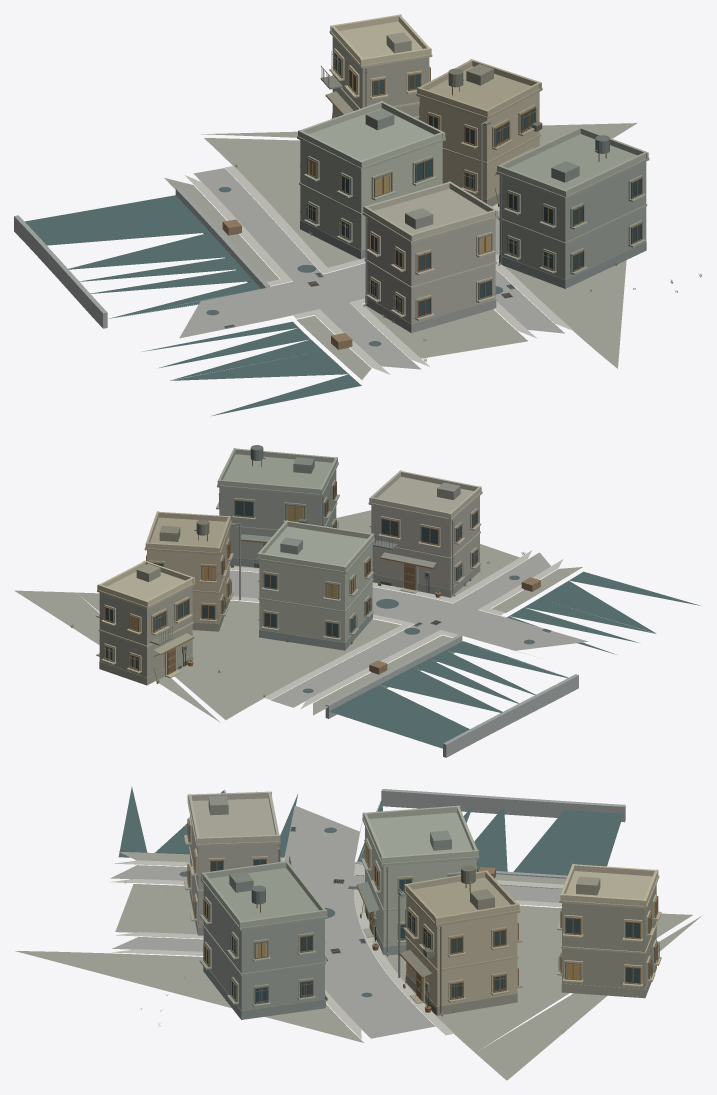
The model's file is street_8_4.glb.
3 views of the same model, one above another, from view 1: azimuth 30°, elevation 25°; view 2: azimuth 150°, elevation 25°; view 3: azimuth 270°, elevation 25° (orthographic). The views are drawn at different scales.
Parts seen in each view (by area): view 1: plaster.009, trim.009, ground.008, water.008, concrete.007, road.046, graybrick.009, paving.036, wood.009, glass.009, metal.009, roof_metal.009; view 2: ground.008, trim.009, plaster.009, water.008, graybrick.009, road.046, concrete.007, wood.009, paving.036, glass.009, roof_metal.009, metal.009 (+1 smaller); view 3: ground.008, trim.009, plaster.009, road.046, graybrick.009, concrete.007, water.008, paving.036, wood.009, glass.009, roof_metal.009, metal.009.
Boxes of the visible parts, x1,y1,x2,y2 form: plaster.009: [298, 14, 648, 250]; trim.009: [297, 21, 649, 320]; ground.008: [164, 123, 637, 379]; water.008: [24, 195, 361, 415]; concrete.007: [365, 162, 646, 323]; road.046: [179, 168, 564, 369]; graybrick.009: [14, 37, 646, 332]; paving.036: [169, 166, 573, 374]; wood.009: [222, 50, 642, 349]; glass.009: [308, 52, 641, 316]; metal.009: [224, 51, 609, 345]; roof_metal.009: [326, 32, 579, 229]; ground.008: [14, 510, 582, 722]; trim.009: [96, 454, 482, 678]; plaster.009: [97, 448, 481, 642]; water.008: [329, 571, 700, 748]; graybrick.009: [99, 557, 578, 757]; road.046: [229, 552, 587, 707]; concrete.007: [219, 469, 479, 589]; wood.009: [99, 481, 540, 680]; paving.036: [229, 550, 563, 709]; glass.009: [105, 482, 476, 669]; roof_metal.009: [136, 457, 460, 653]; metal.009: [103, 445, 551, 670]; ground.008: [15, 851, 702, 1080]; trim.009: [184, 798, 661, 1007]; plaster.009: [187, 791, 658, 1006]; road.046: [110, 805, 562, 1038]; graybrick.009: [189, 789, 656, 1019]; concrete.007: [190, 816, 324, 1010]; water.008: [118, 786, 623, 875]; paving.036: [110, 812, 563, 1039]; wood.009: [187, 818, 658, 1004]; glass.009: [188, 820, 656, 1002]; roof_metal.009: [208, 795, 600, 976]; metal.009: [251, 827, 659, 1016].
Bounding box in the file's own units: 46.26 × 9.24 × 44.86.
